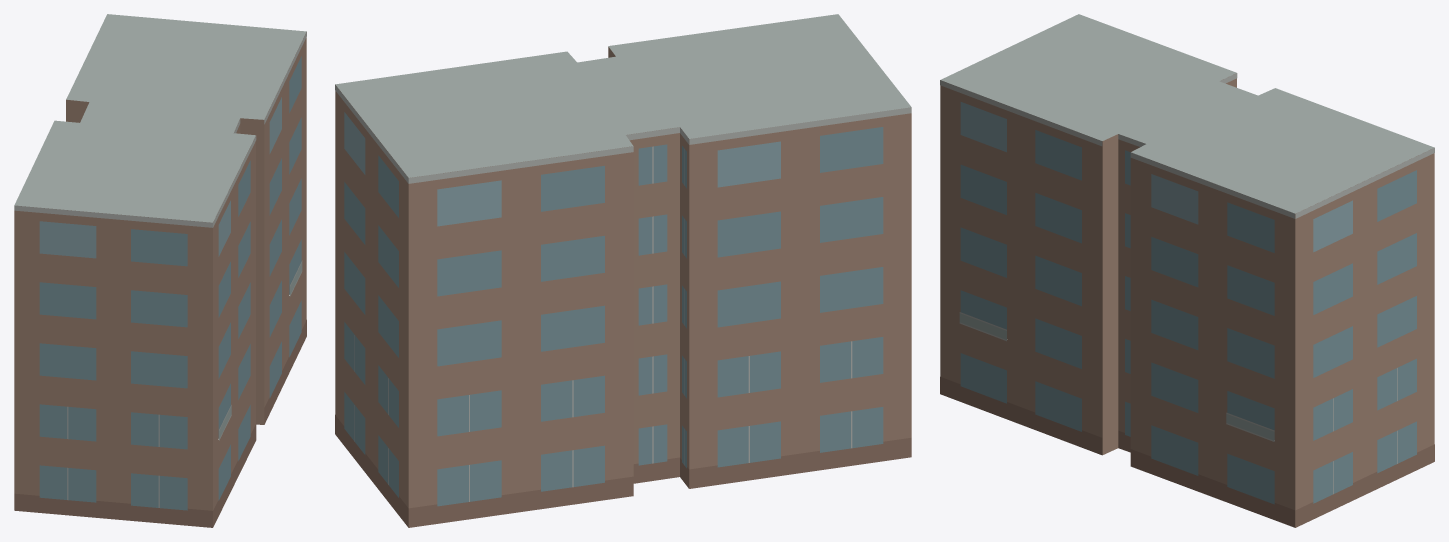
Rendered from survey-upis-32523867.glb.
The picture shows the model from 3 angles, left to right: view 1: azimuth 30°, elevation 25°; view 2: azimuth 150°, elevation 25°; view 3: azimuth 270°, elevation 25°; orthographic projection. The views are drawn at different scales.
Parts seen in each view (by area): view 1: survey-upis-32523867.tmp; view 2: survey-upis-32523867.tmp; view 3: survey-upis-32523867.tmp.
Part boxes in pixels (box(x1,y1,x2,y2)): survey-upis-32523867.tmp: box(14, 14, 306, 527); survey-upis-32523867.tmp: box(335, 14, 911, 527); survey-upis-32523867.tmp: box(940, 14, 1434, 527).
Size of the model in its own units: 19.61 by 14.38 by 20.52.
